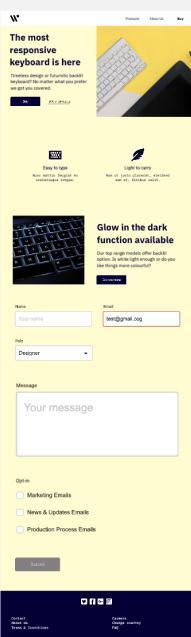button: (13, 559, 62, 572), (98, 275, 129, 286), (11, 97, 42, 107)
checkbox: (14, 508, 27, 519), (14, 526, 28, 535), (16, 491, 26, 500)
dropdown: (17, 346, 93, 362)
icon: (80, 598, 89, 607), (98, 599, 106, 607), (106, 599, 114, 607), (90, 598, 97, 607)
input: (16, 313, 93, 328), (105, 313, 181, 327)
label: (27, 526, 97, 535), (27, 509, 92, 517), (29, 492, 73, 501), (11, 381, 40, 390), (49, 99, 72, 108), (15, 476, 33, 486), (148, 17, 168, 23), (12, 304, 28, 311), (14, 338, 28, 346), (103, 303, 116, 311), (126, 17, 141, 23), (175, 17, 187, 23)
